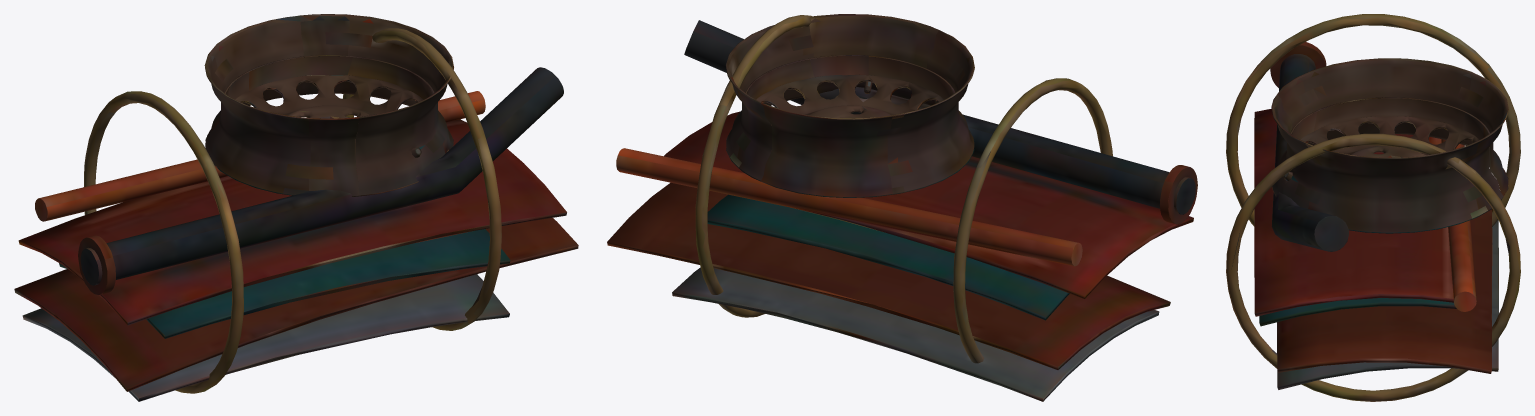
File: salvage_scrap.glb
The picture shows the model from 3 angles, left to right: view 1: azimuth 30°, elevation 25°; view 2: azimuth 150°, elevation 25°; view 3: azimuth 270°, elevation 25°; orthographic projection. The views are drawn at different scales.
Visible parts, largest first — view 1: salvage_scrap; view 2: salvage_scrap; view 3: salvage_scrap.
Boxes of the visible parts, x1=… form: salvage_scrap: x1=14, y1=14, x2=578, y2=401; salvage_scrap: x1=607, y1=14, x2=1197, y2=401; salvage_scrap: x1=1226, y1=14, x2=1520, y2=401.
Size of the model in its own units: 0.6394 by 0.3536 by 0.3538.
Materials: 1 (1 with a texture image).
